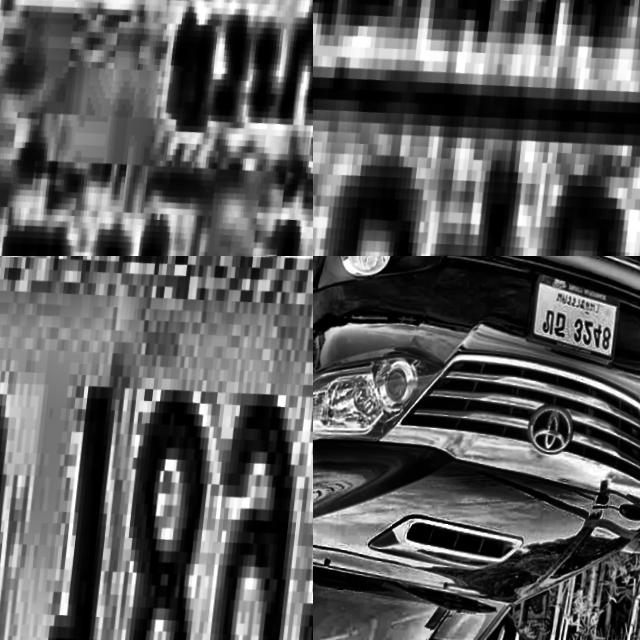license-plate: (0, 256, 313, 640), (313, 0, 640, 256), (0, 0, 313, 256), (524, 273, 625, 374)
